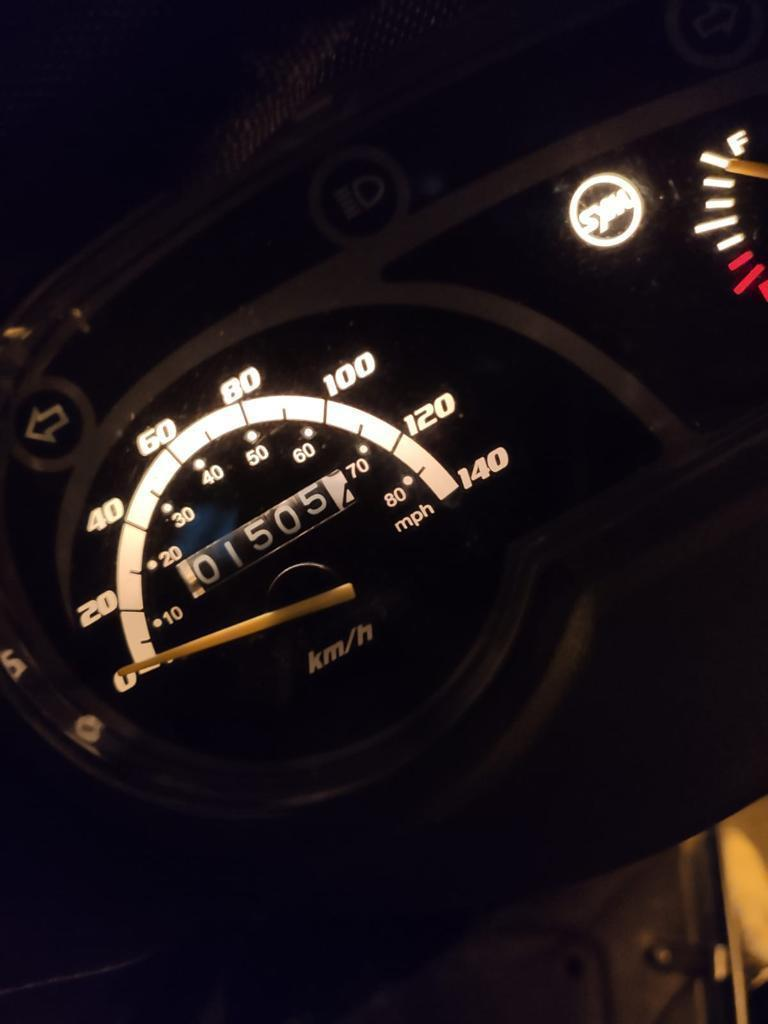0: (191, 554, 223, 587), (272, 503, 302, 536), (209, 463, 226, 480), (181, 504, 196, 521), (357, 457, 369, 474), (170, 545, 182, 560)
1: (221, 539, 244, 570)
3: (172, 511, 184, 528)
4: (337, 482, 362, 514), (200, 470, 214, 486)
5: (295, 483, 330, 514), (242, 520, 275, 552), (245, 449, 258, 466)
7: (345, 461, 358, 479)
odometer: (168, 458, 384, 593)
